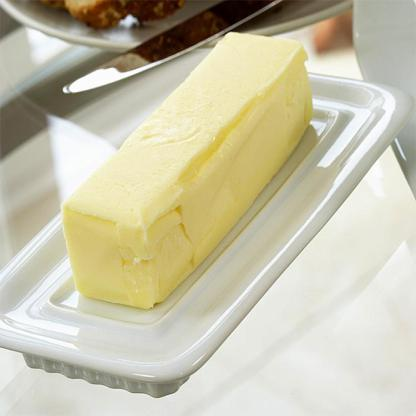butter: (73, 31, 316, 306)
